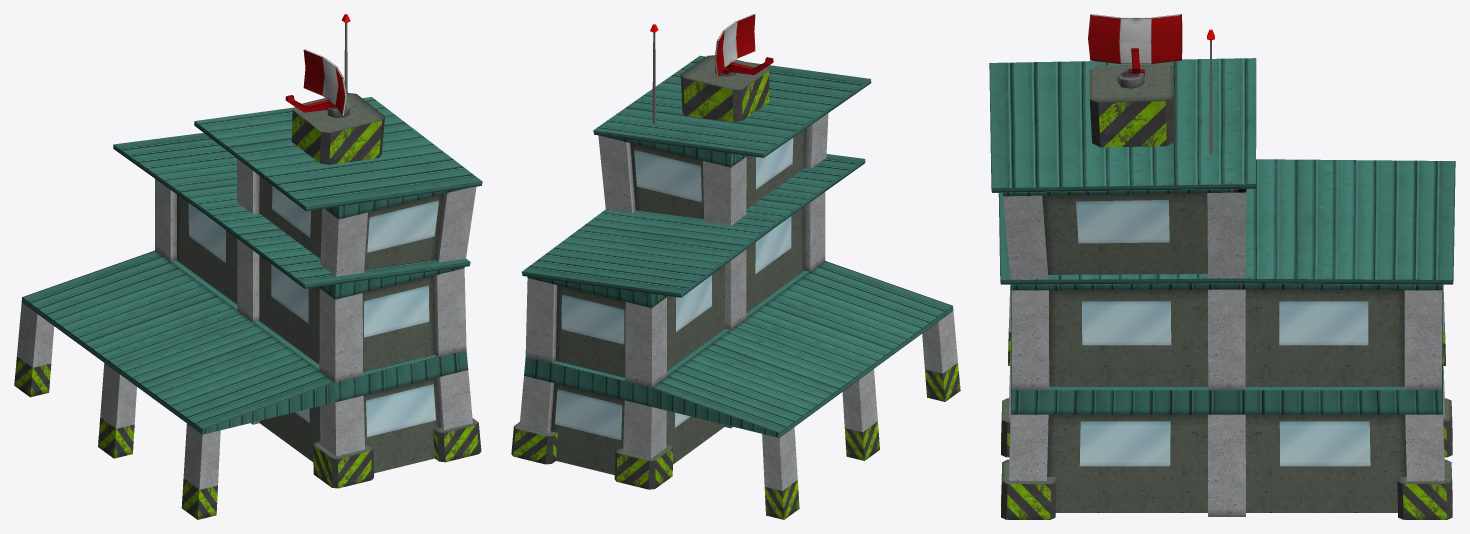
File: Terminal.fbx
3 views of the same model, side by side, from view 1: azimuth 30°, elevation 25°; view 2: azimuth 150°, elevation 25°; view 3: azimuth 270°, elevation 25° (orthographic). The views are drawn at different scales.
Visible parts, largest first — view 1: Terminal, Windows, Tower5, Radar1; view 2: Terminal, Windows, Tower5, Radar1; view 3: Terminal, Windows, Tower5, Radar1.
Part boxes in pixels (left/top/right/bottom): Terminal: left=14, top=97, right=482, bottom=519; Windows: left=188, top=186, right=438, bottom=436; Tower5: left=291, top=92, right=384, bottom=164; Radar1: left=285, top=49, right=346, bottom=116; Terminal: left=511, top=55, right=960, bottom=519; Windows: left=555, top=138, right=793, bottom=440; Tower5: left=680, top=55, right=769, bottom=122; Radar1: left=714, top=14, right=773, bottom=78; Terminal: left=989, top=58, right=1455, bottom=519; Windows: left=1076, top=200, right=1370, bottom=466; Tower5: left=1089, top=63, right=1174, bottom=147; Radar1: left=1088, top=14, right=1182, bottom=77.
Size of the model in its own units: 71.59 by 93.28 by 85.56.
